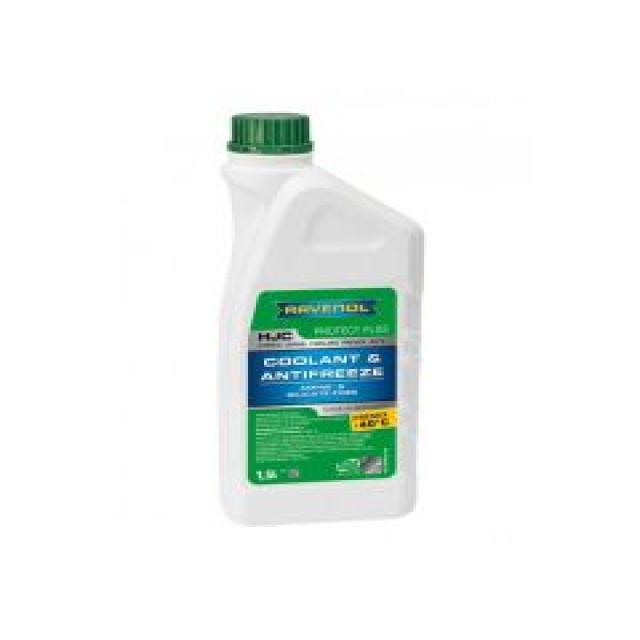coolant: (198, 103, 433, 530)
